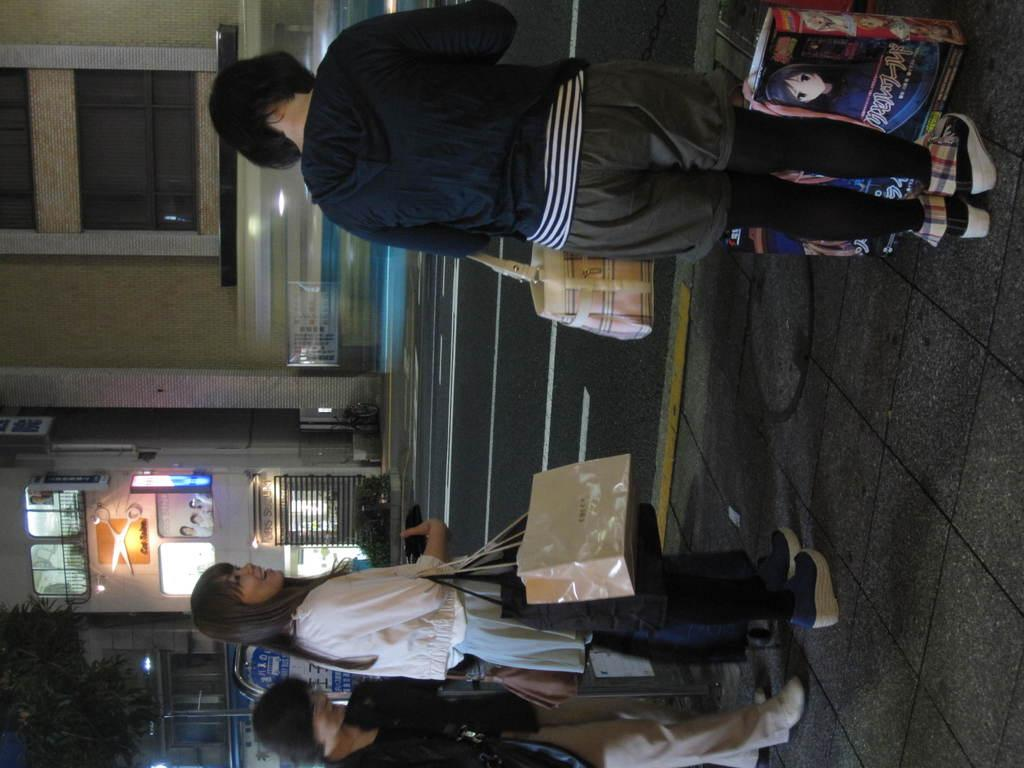Luggage-and-bags: (456, 256, 653, 340), (449, 659, 580, 711)
